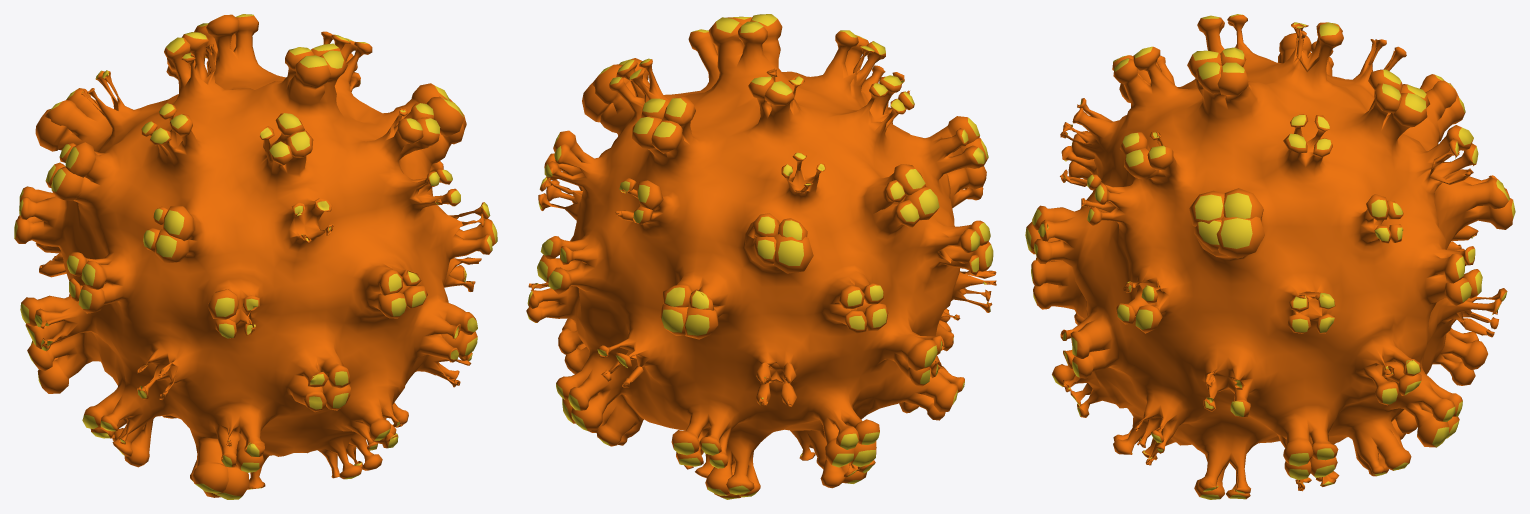
Rendered from alpha.glb.
The picture shows the model from 3 angles, left to right: view 1: azimuth 30°, elevation 25°; view 2: azimuth 150°, elevation 25°; view 3: azimuth 270°, elevation 25°; orthographic projection. The views are drawn at different scales.
Parts seen in each view (by area): view 1: Cube; view 2: Cube; view 3: Cube.
Boxes of the visible parts, box(x1,y1,x2,y2) form: Cube: box(14, 14, 497, 499); Cube: box(526, 14, 996, 499); Cube: box(1025, 14, 1515, 499).
Size of the model in its own units: 176 by 179 by 181.
